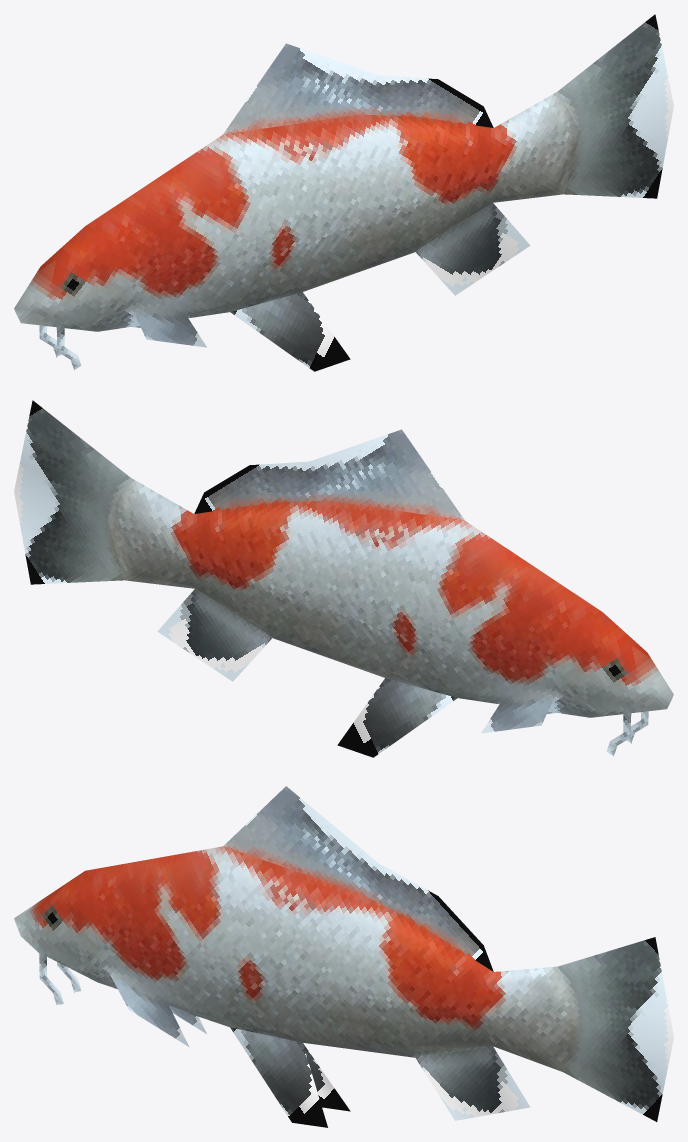
Rendered from japanese_koi_fish_in_psxps1_style.glb.
3 renders of one model, top to bottom at view 1: azimuth 30°, elevation 25°; view 2: azimuth 150°, elevation 25°; view 3: azimuth 330°, elevation 25°, orthographic.
Visible parts, largest first — view 1: Karp_0; view 2: Karp_0; view 3: Karp_0.
Boxes of the visible parts, <box> form: Karp_0: <box>14,14,673,371</box>; Karp_0: <box>14,400,673,757</box>; Karp_0: <box>14,786,673,1127</box>.
Size of the model in its own units: 5.01 by 2.35 by 0.5067.
1 material, 1 textured.
